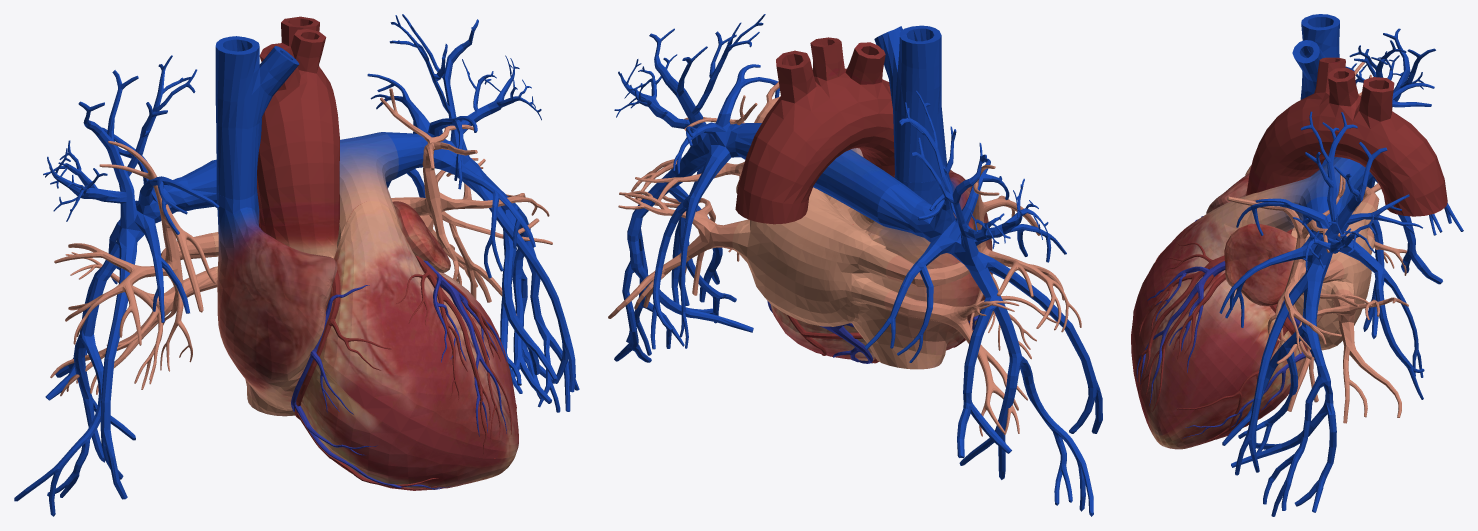
File: heart.glb
The picture shows the model from 3 angles, left to right: view 1: azimuth 30°, elevation 25°; view 2: azimuth 150°, elevation 25°; view 3: azimuth 270°, elevation 25°; orthographic projection. The views are drawn at different scales.
Size of the model in its own units: 2.5 by 2.01 by 1.59.
Materials: 1 (1 with a texture image).
